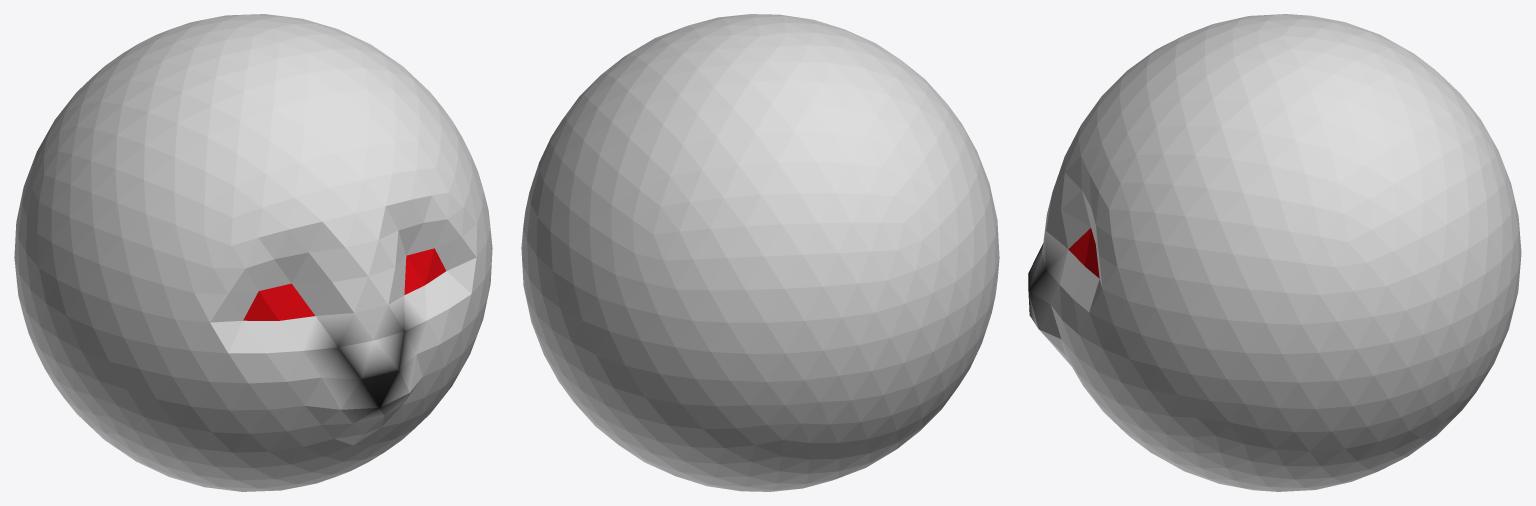
Rendered from Fluffy.fbx.
3 views of the same model, side by side, from view 1: azimuth 30°, elevation 25°; view 2: azimuth 150°, elevation 25°; view 3: azimuth 270°, elevation 25° (orthographic).
Parts seen in each view (by area): view 1: Icosphere; view 2: Icosphere; view 3: Icosphere.
Boxes of the visible parts, bbox=[...] form: Icosphere: bbox=[14, 14, 492, 491]; Icosphere: bbox=[521, 14, 999, 491]; Icosphere: bbox=[1028, 14, 1521, 491].
Bounding box in the file's own units: 200 × 200 × 206.
